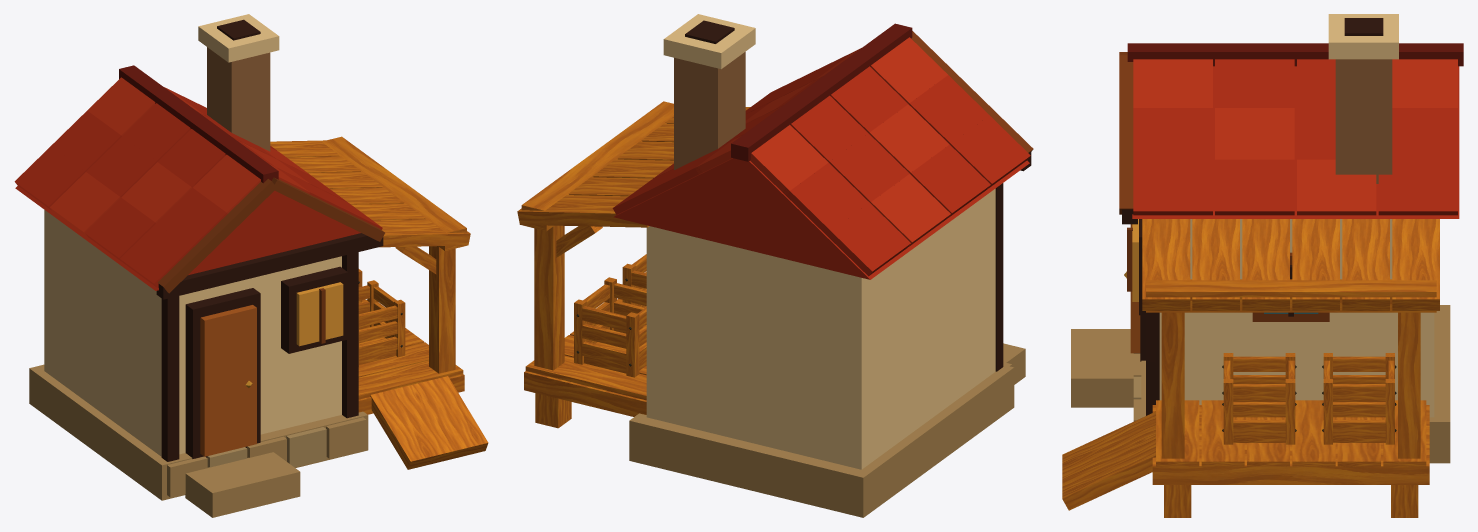
The model's file is warehouse-base.obj.
The picture shows the model from 3 angles, left to right: view 1: azimuth 30°, elevation 25°; view 2: azimuth 150°, elevation 25°; view 3: azimuth 270°, elevation 25°; orthographic projection. The views are drawn at different scales.
Parts seen in each view (by area): view 1: warehouse-base; view 2: warehouse-base; view 3: warehouse-base.
Part boxes in pixels (x1=…): warehouse-base: x1=14, y1=14, x2=488, y2=517; warehouse-base: x1=517, y1=14, x2=1033, y2=517; warehouse-base: x1=1062, y1=14, x2=1463, y2=517.
Size of the model in its own units: 1.9 by 2.03 by 1.77.
2 materials, 2 textured.
